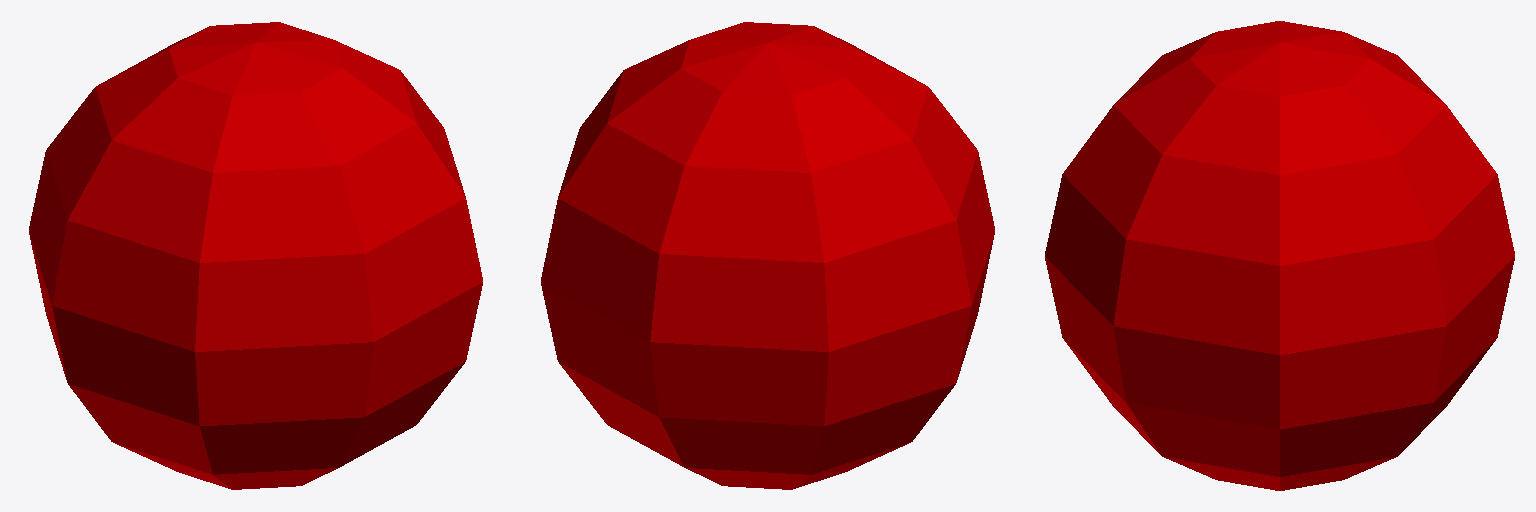
The model's file is debug-sphere.obj.
3 renders of one model, left to right at view 1: azimuth 30°, elevation 25°; view 2: azimuth 150°, elevation 25°; view 3: azimuth 270°, elevation 25°, orthographic.
Parts seen in each view (by area): view 1: Sphere; view 2: Sphere; view 3: Sphere.
Part boxes in pixels (x1,y1,x2,y2): Sphere: (29,22,482,489); Sphere: (541,22,994,489); Sphere: (1045,21,1514,490).
Bounding box in the file's own units: 8 × 8 × 8.